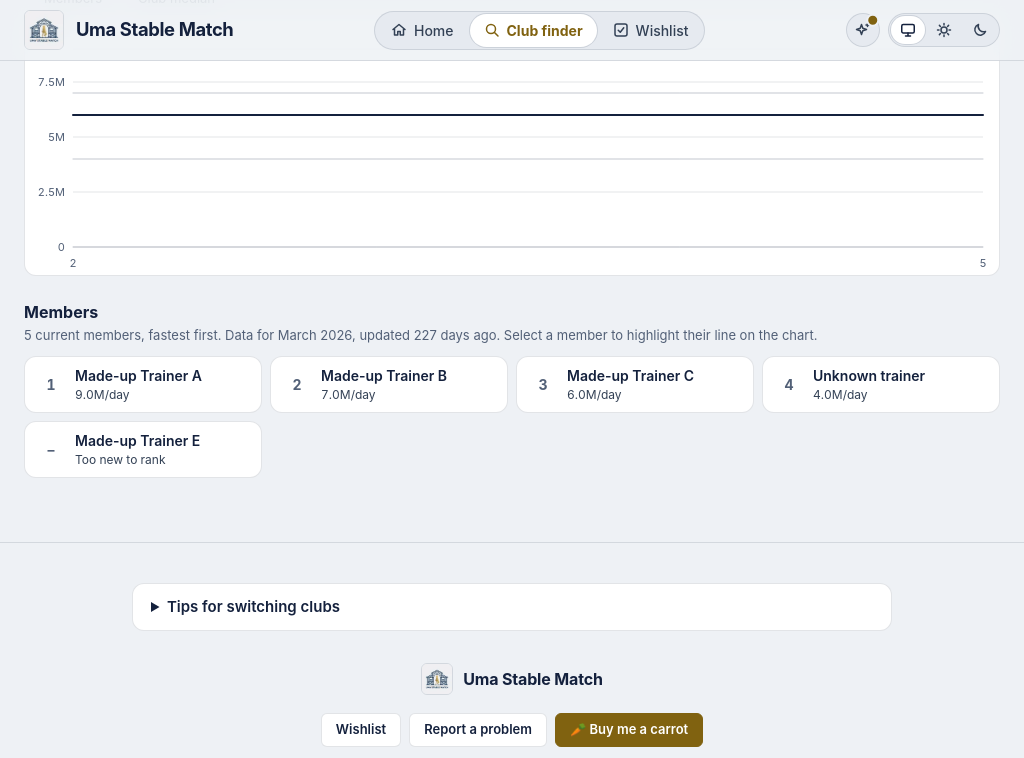
ClubPage › highlights a member on the chart when their card is selected, and clears it again
The width and height of the screenshot is (1024, 758).
(page scrolled)
Click the button "2 Made-up Trainer B 7.0M/day".
click(389, 384)  # box [270, 356, 508, 412]
(page scrolled)
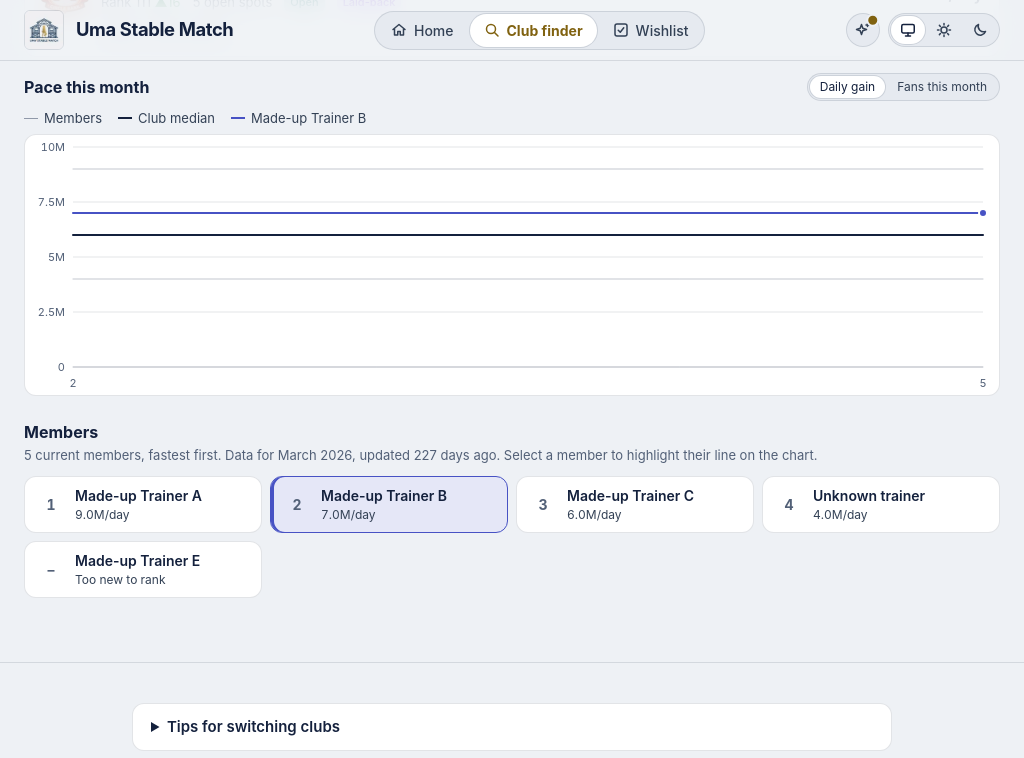
Check: the list with class "legend" shows "Made-up Trainer B", box [251, 110, 366, 126]
Click the button "3 Made-up Trainer C 6.0M/day".
click(635, 504)  # box [516, 476, 754, 532]
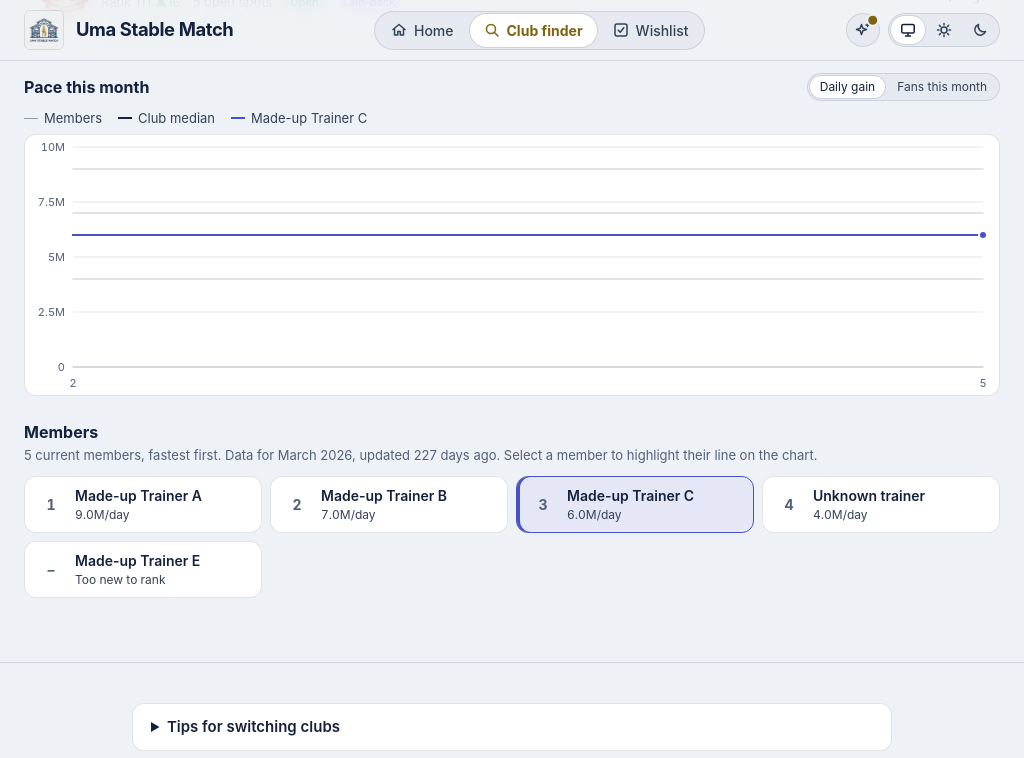
Check: the button "2 Made-up Trainer B 7.0M/day" is not pressed, box [270, 476, 508, 532]
Click the button "3 Made-up Trainer C 6.0M/day".
click(635, 504)  # box [516, 476, 754, 532]
(page scrolled)
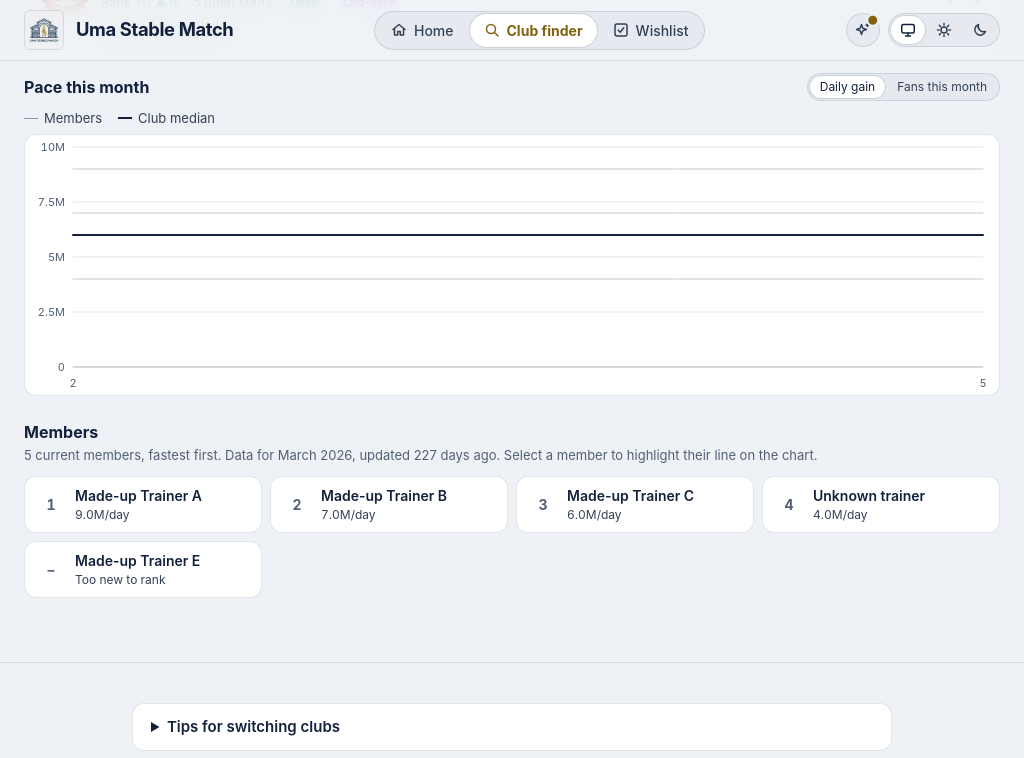
Check: the element with class "chosen" is gone
